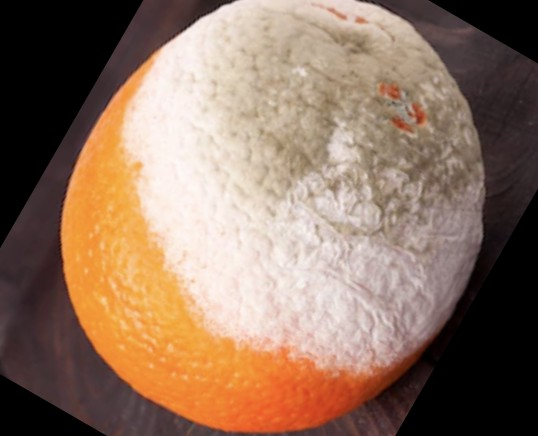rotten_orange: (62, 1, 483, 436)
